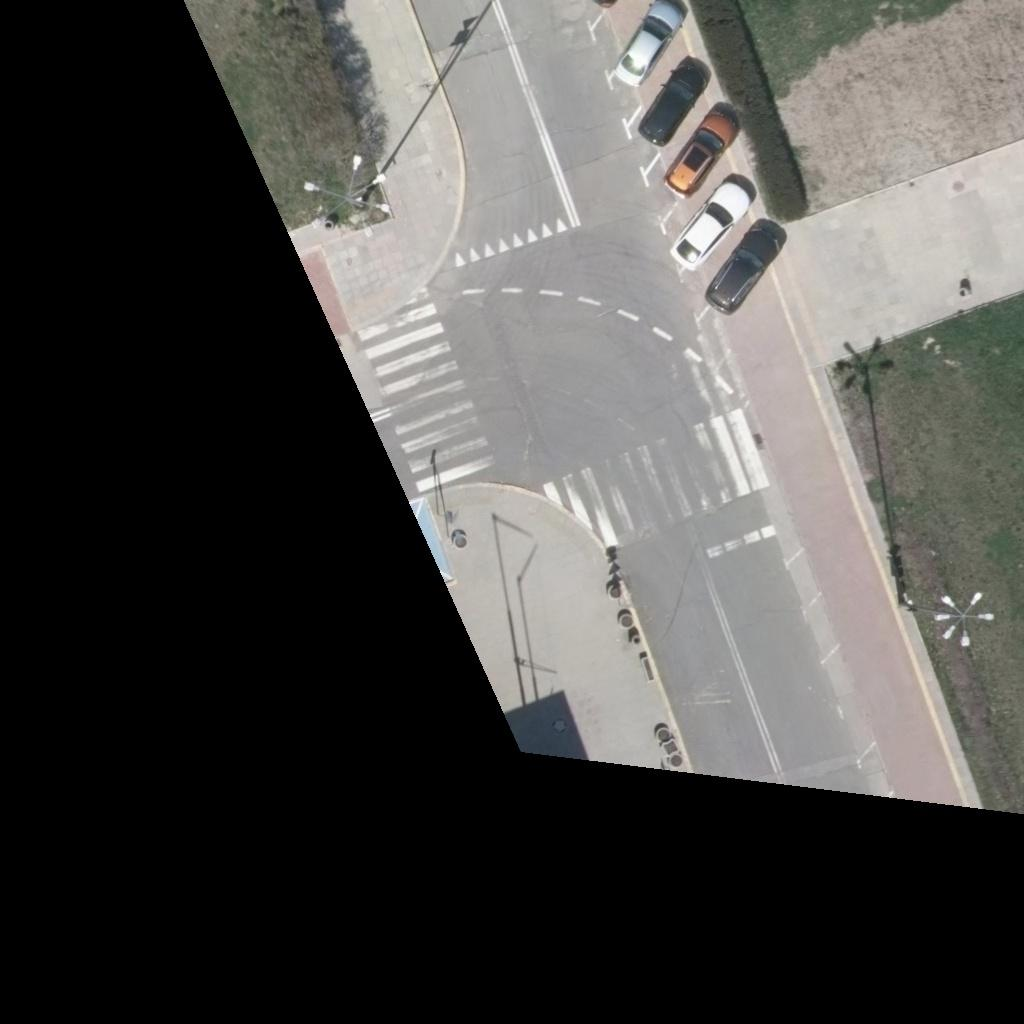samochod_osobowy: (671, 183, 750, 269), (664, 109, 739, 197), (705, 229, 780, 313), (639, 57, 709, 146), (615, 0, 684, 85)
